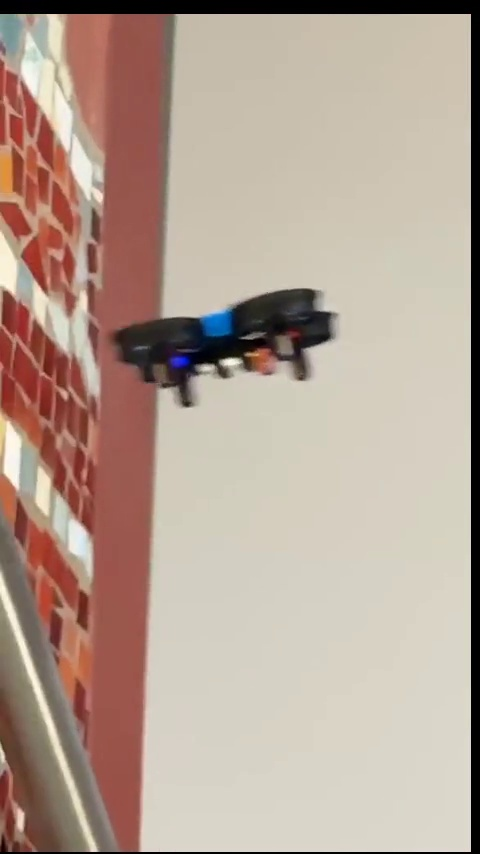drone: (107, 287, 338, 403)
